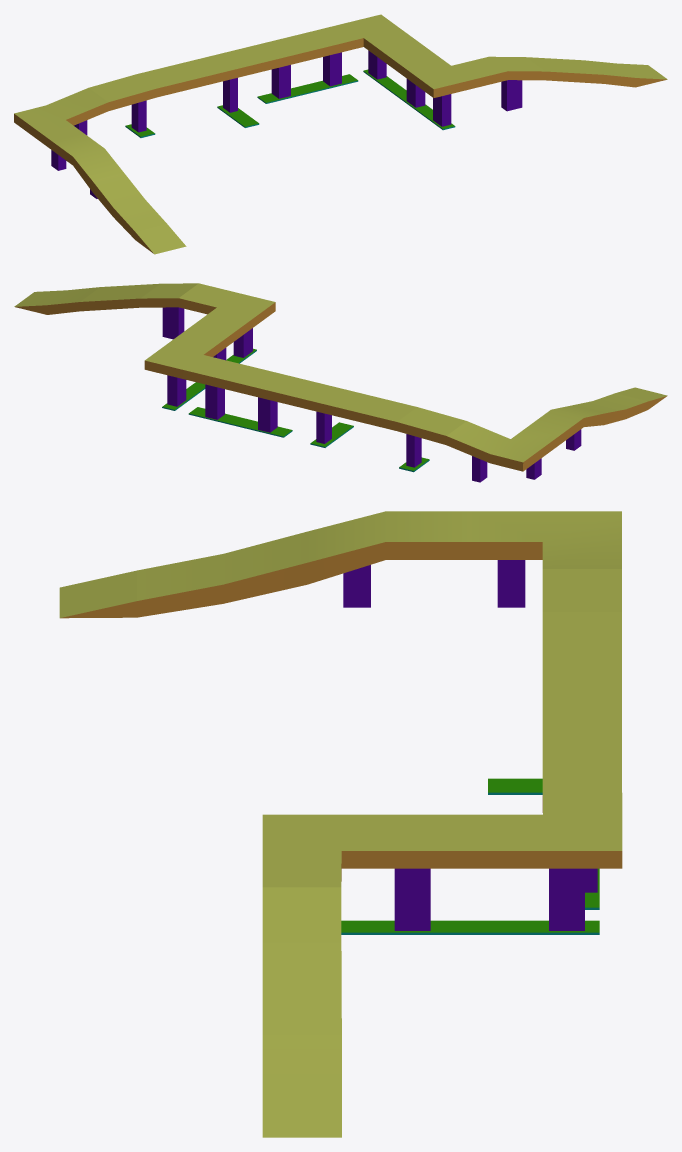
File: Overhead_Railway.fbx
The picture shows the model from 3 angles, top to bottom: view 1: azimuth 30°, elevation 25°; view 2: azimuth 150°, elevation 25°; view 3: azimuth 270°, elevation 25°; orthographic projection. The views are drawn at different scales.
Parts seen in each view (by area): view 1: polySurface885; view 2: polySurface885; view 3: polySurface885.
Part boxes in pixels (bbox=[...]): polySurface885: bbox=[14, 14, 667, 254]; polySurface885: bbox=[14, 283, 667, 482]; polySurface885: bbox=[59, 511, 622, 1137].
Size of the model in its own units: 2121 by 172 by 916.
